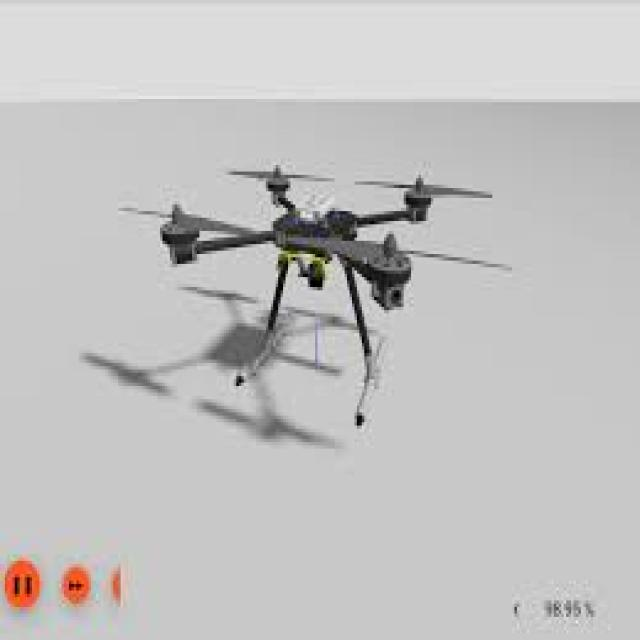drone: (151, 158, 484, 416)
